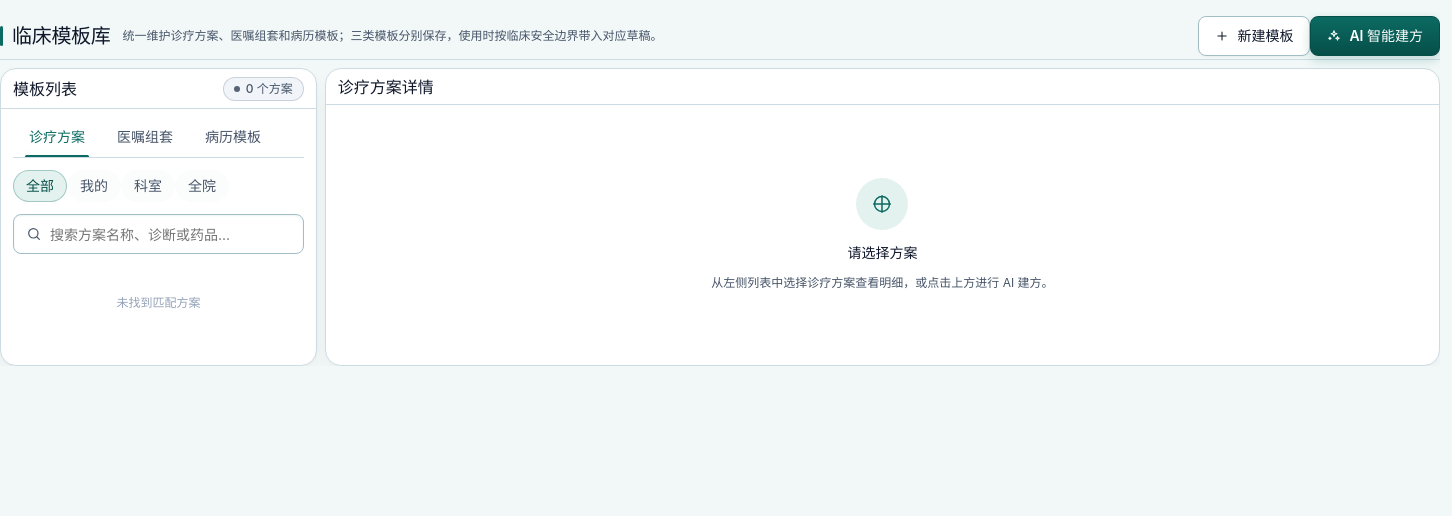
Test: order sets in the library › lists new order sets together with read-only legacy groups labelled as maintained by the medical affairs office
Click the tab "医嘱组套". click: [145, 137]
box: [101, 117, 189, 157]
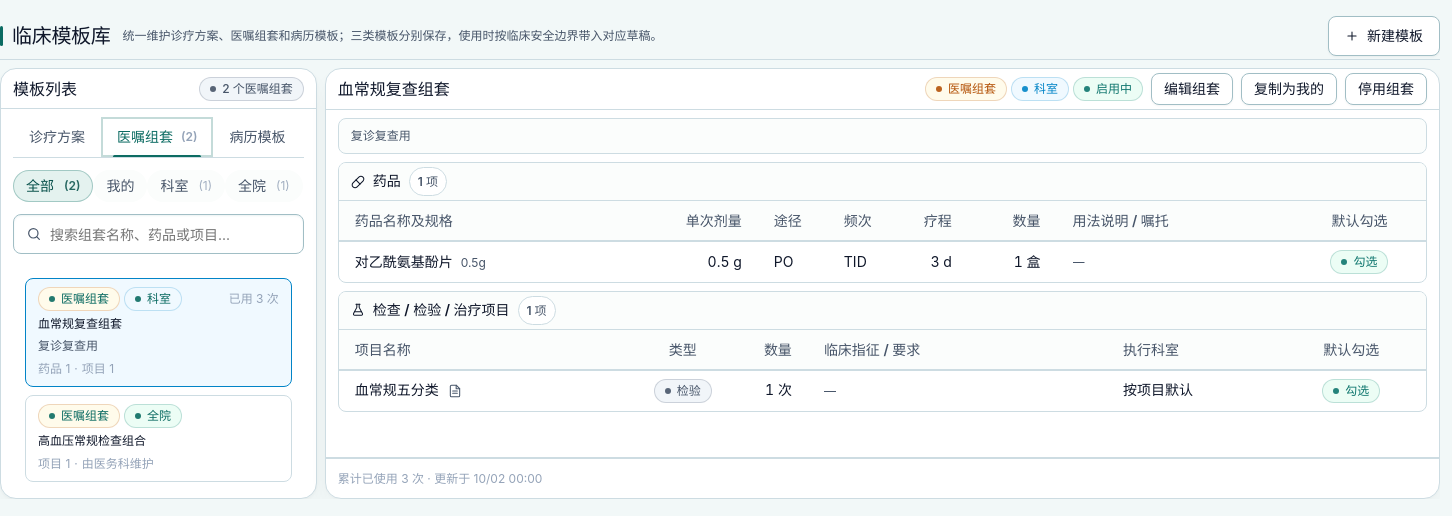
Result: the text "高血压常规检查组合" is shown at [38, 433, 146, 448]
Result: the text "血常规复查组套" is shown at [38, 316, 122, 331]
Result: the text "由医务科维护" is shown at [82, 454, 154, 473]
